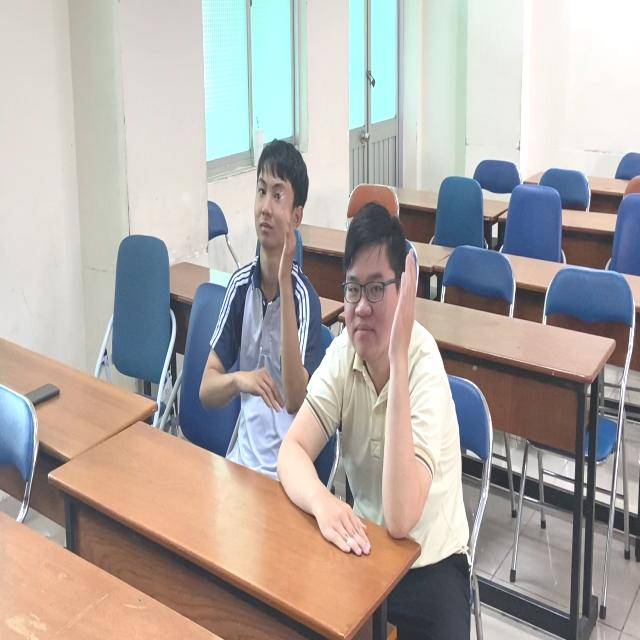raise_hand: (196, 132, 315, 494), (336, 197, 447, 540)
